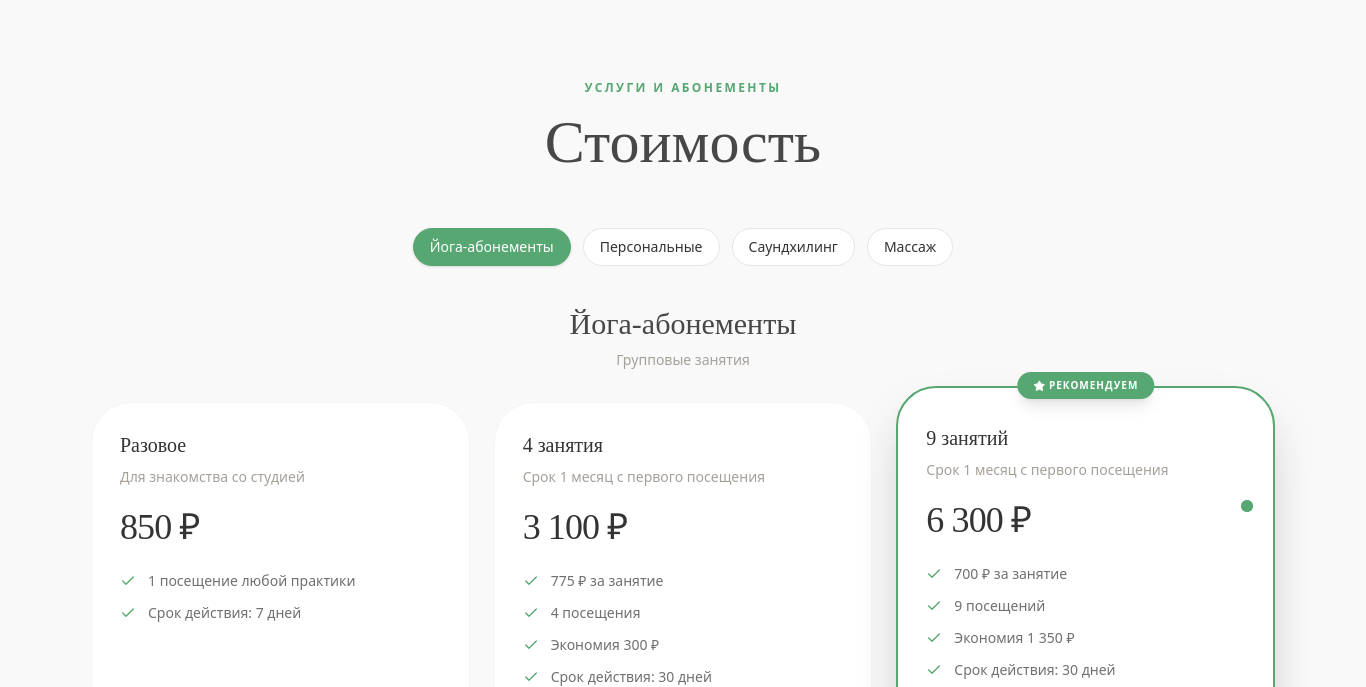
it: Pricing › switches pricing tabs
Click the button "Персональные" at (651, 247), box [583,228,720,266]
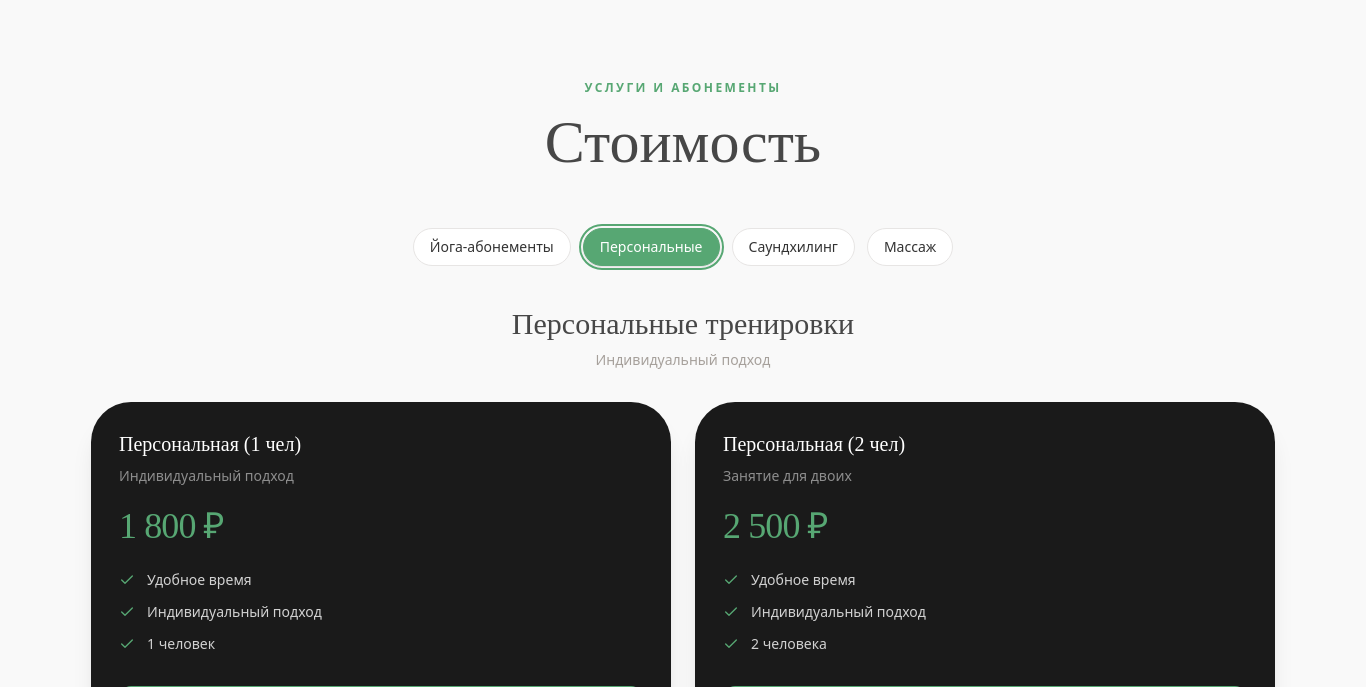
Check: the heading "Персональные тренировки" is shown, box [512,307,854,340]
